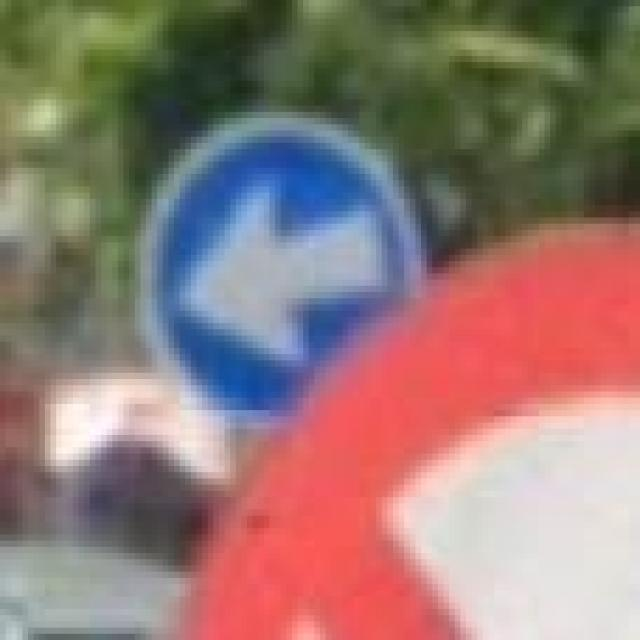traffic sign: (152, 124, 427, 422)
